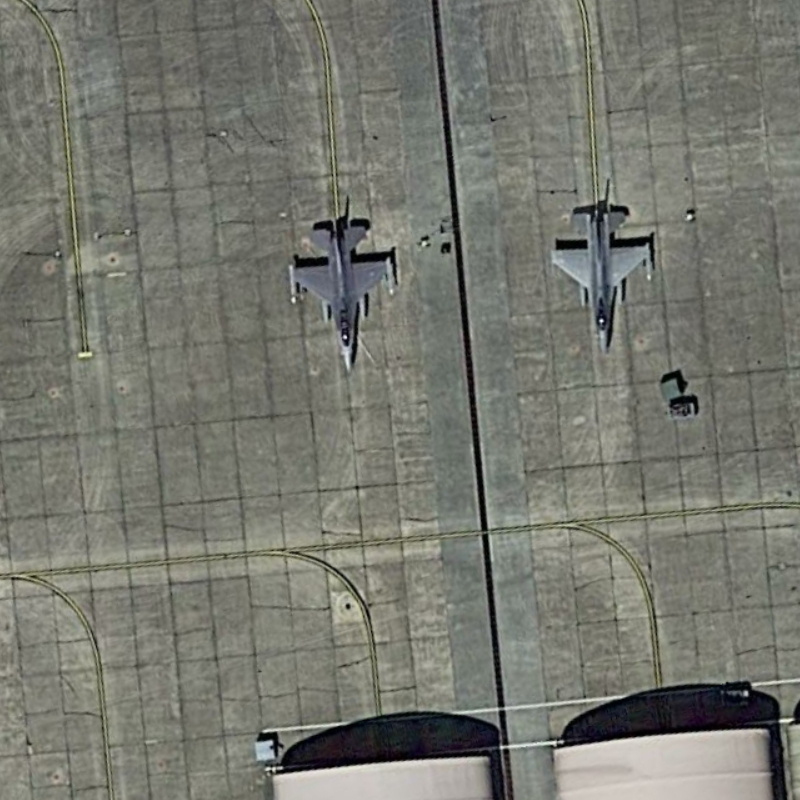A5: (280, 217, 405, 379), (544, 200, 663, 361)
